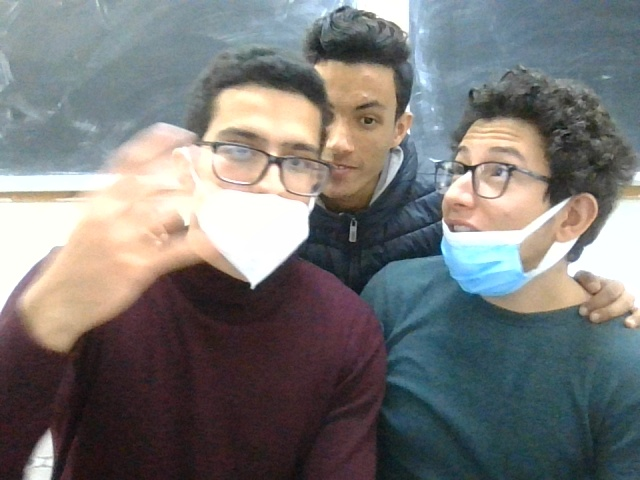mask_weared_incorrect: (445, 74, 605, 292), (191, 52, 320, 270)
without_mask: (314, 11, 431, 196)
